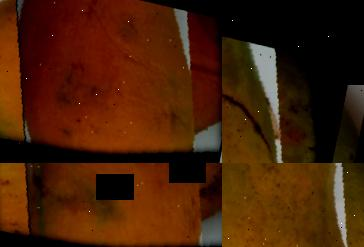PartiallyRipe: (222, 0, 343, 163), (222, 163, 364, 247)
Ripe: (0, 0, 222, 163), (0, 163, 222, 247)
